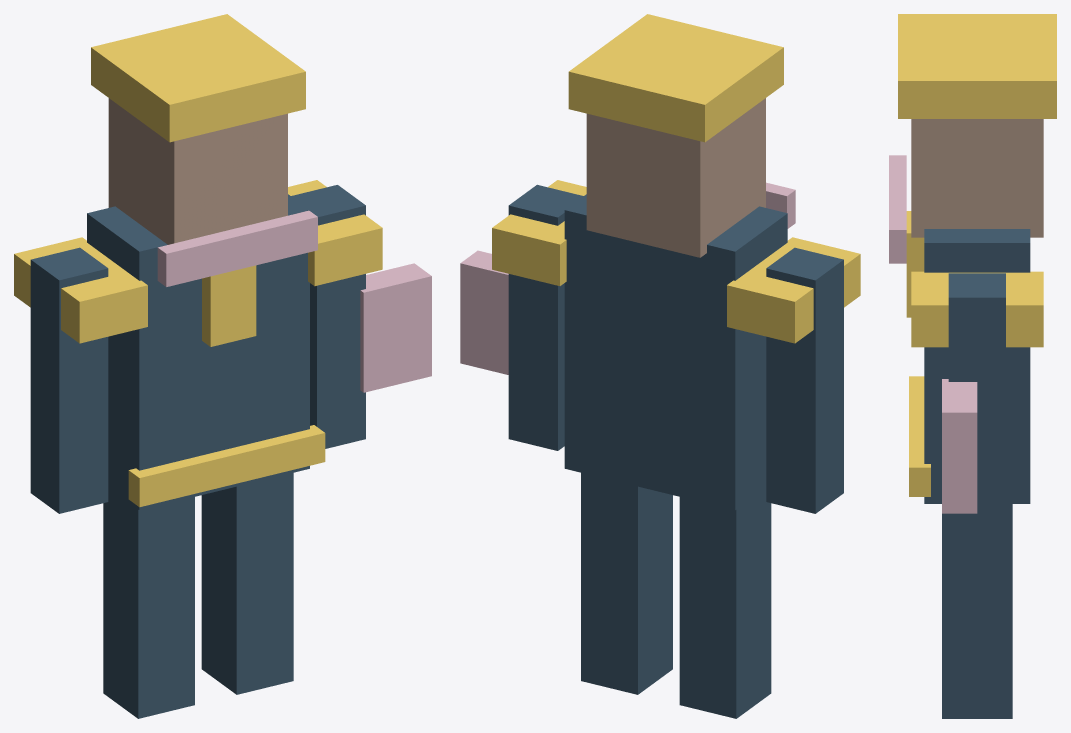
File: 18_tamsin_signalborn_oracle_at_vendor.glb
The picture shows the model from 3 angles, left to right: view 1: azimuth 30°, elevation 25°; view 2: azimuth 150°, elevation 25°; view 3: azimuth 270°, elevation 25°; orthographic projection.
Parts seen in each view (by area): view 1: Tamsin Signalborn, Oracle at Vendor; view 2: Tamsin Signalborn, Oracle at Vendor; view 3: Tamsin Signalborn, Oracle at Vendor.
Part boxes in pixels (box(x1,y1,x2,y2)): Tamsin Signalborn, Oracle at Vendor: box(14, 14, 431, 718); Tamsin Signalborn, Oracle at Vendor: box(460, 14, 860, 718); Tamsin Signalborn, Oracle at Vendor: box(889, 14, 1056, 718).
Size of the model in its own units: 1.02 by 1.65 by 0.3957.
